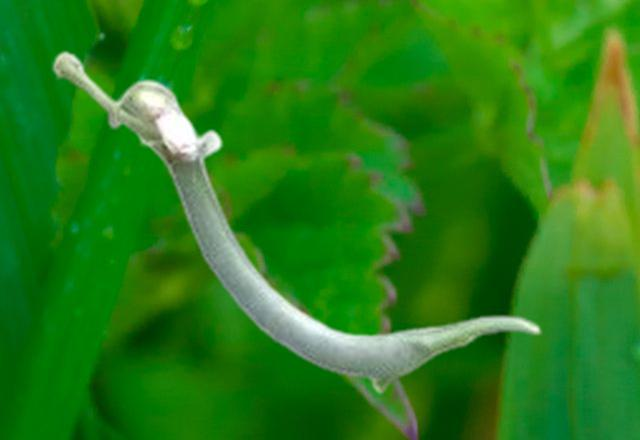french_bean: (51, 49, 541, 394)
